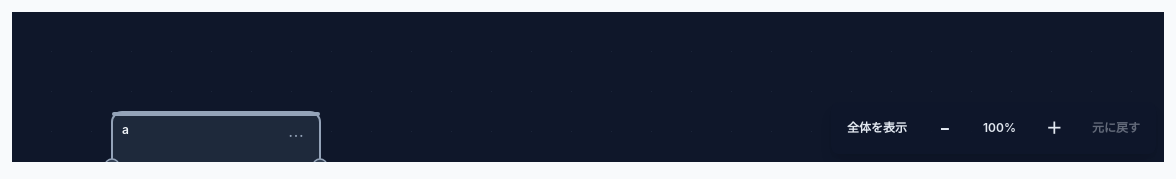
Test: CardBoardChart › laporta-beads-8i1wq: ツールバー（全体を表示・ズーム・取り消し） › resets zoom to 100% via the zoom-reset button
Click the button with test id "card-board-zoom-in" at (1054, 128), box [1032,106,1076,150]
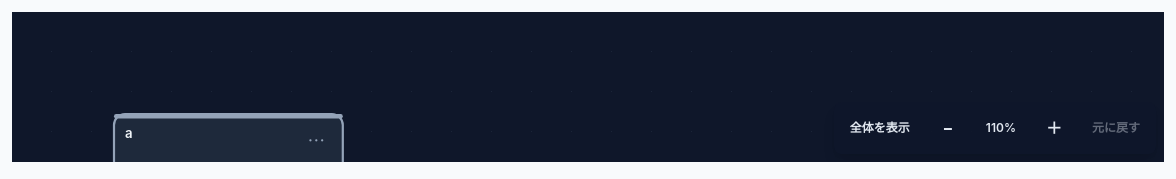
Result: the button with test id "card-board-zoom-reset" no longer shows "100%"
Click the button with test id "card-board-zoom-reset" at (1001, 128), box [974,106,1028,150]
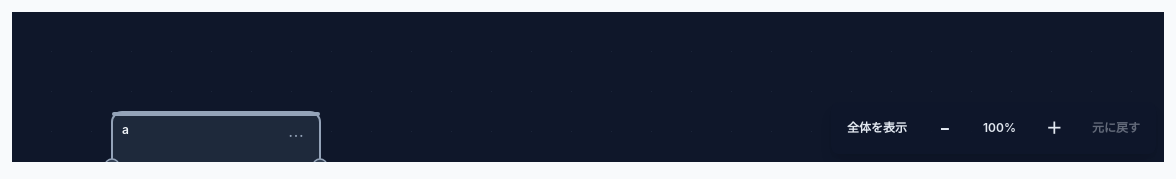
Result: the button with test id "card-board-zoom-reset" reads "100%" at [971,106,1028,150]
